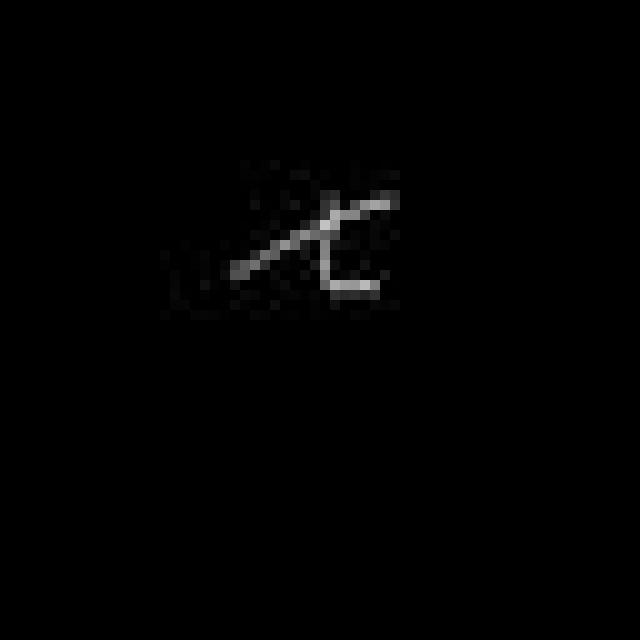7 -seven-: (220, 180, 398, 310)
